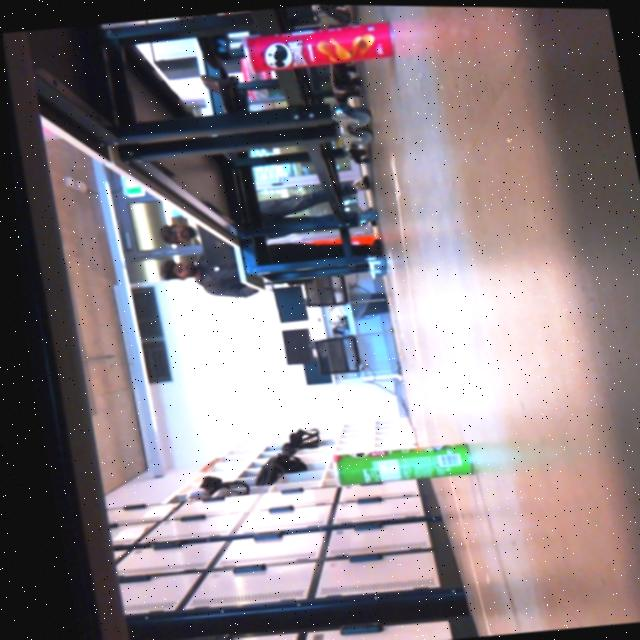greenpringles: (317, 433, 474, 491)
redpringles: (233, 12, 407, 80)
